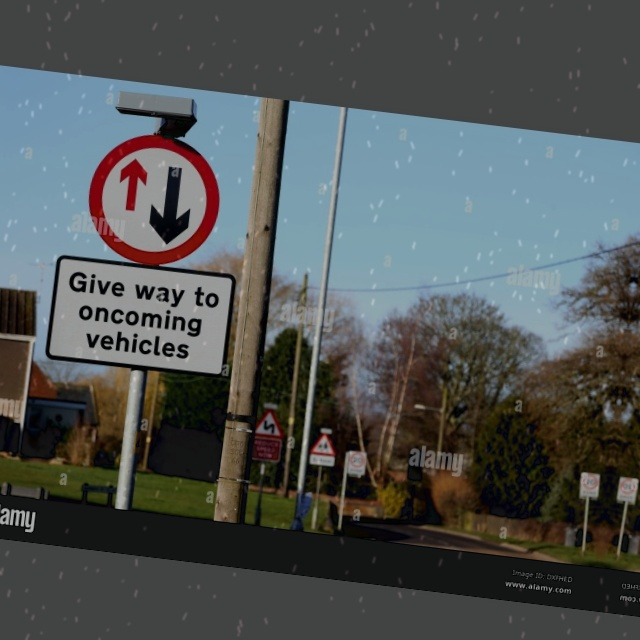Priority_for_Oncoming_Traffic: (81, 129, 226, 271)
